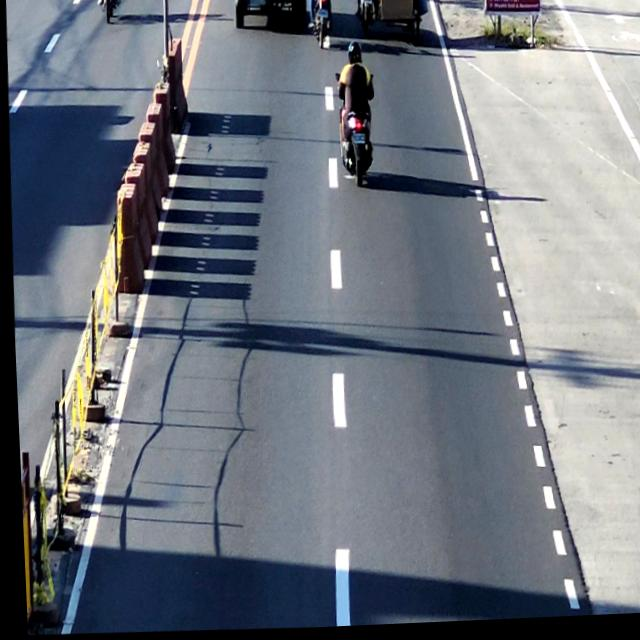Car: (230, 0, 306, 37)
License-Plate: (347, 133, 368, 149), (246, 0, 267, 11)
Motorcycle: (332, 44, 378, 186), (305, 0, 333, 52)
